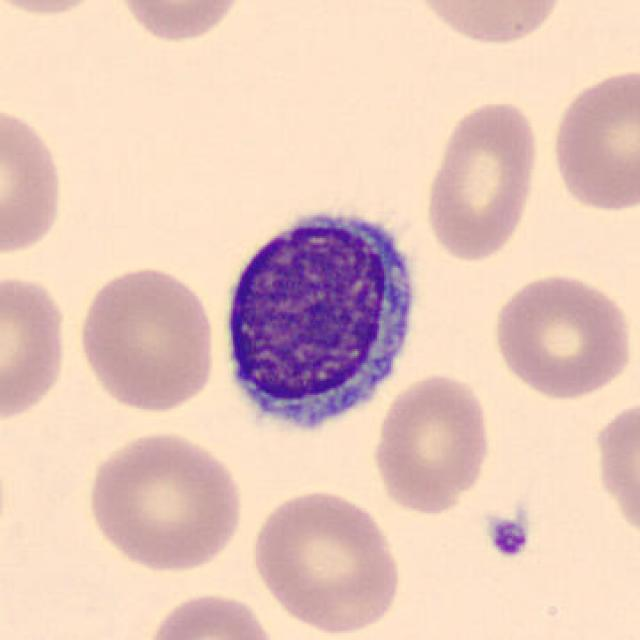Lymphocyte: (212, 194, 426, 442)
Platelets: (484, 510, 534, 560)
RBC: (82, 426, 247, 574), (247, 485, 407, 636), (73, 261, 220, 416), (420, 95, 542, 265), (487, 268, 635, 402), (370, 368, 494, 515), (546, 64, 638, 215), (0, 268, 73, 427), (0, 100, 68, 262), (407, 0, 569, 49), (590, 392, 640, 548), (140, 587, 281, 640), (110, 0, 251, 46), (0, 0, 116, 18)
